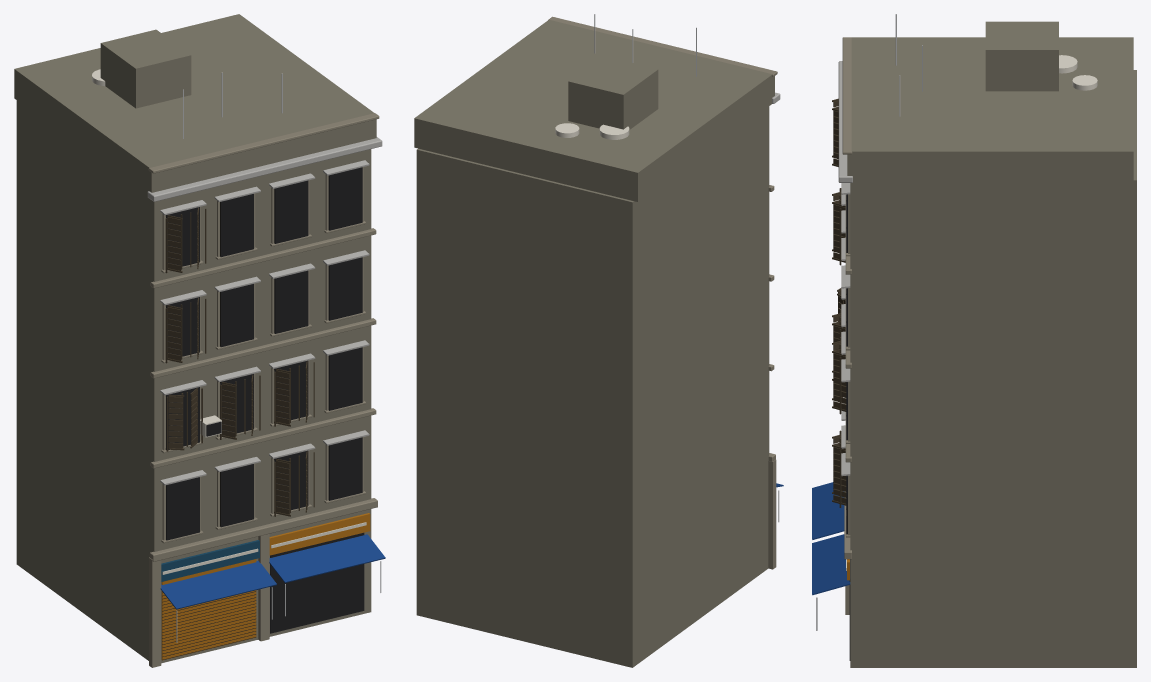
File: KIT_BLDG_B.glb
3 views of the same model, side by side, from view 1: azimuth 30°, elevation 25°; view 2: azimuth 150°, elevation 25°; view 3: azimuth 270°, elevation 25° (orthographic). The views are drawn at different scales.
Visible parts, largest first — view 1: KIT_BLDG_B; view 2: KIT_BLDG_B; view 3: KIT_BLDG_B.
Part boxes in pixels (<box>): KIT_BLDG_B: <box>14,14,385,667</box>; KIT_BLDG_B: <box>414,14,783,667</box>; KIT_BLDG_B: <box>812,14,1136,667</box>.
Size of the model in its own units: 8.64 by 19.74 by 10.2.
